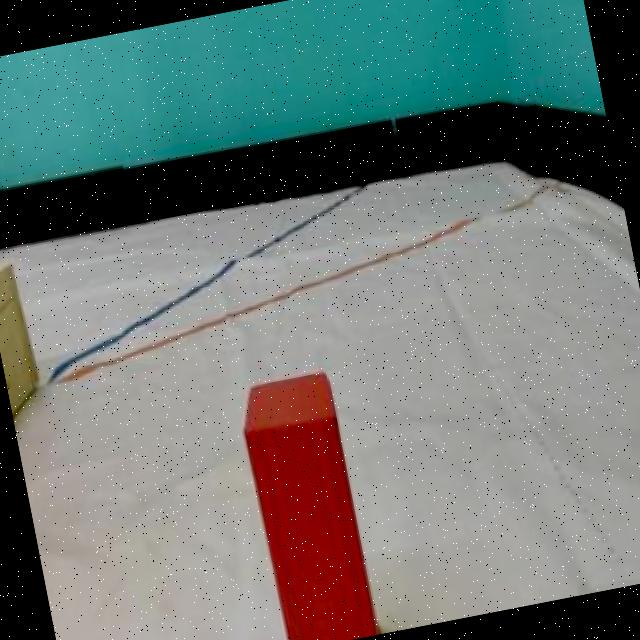redbox: (236, 371, 379, 640)
